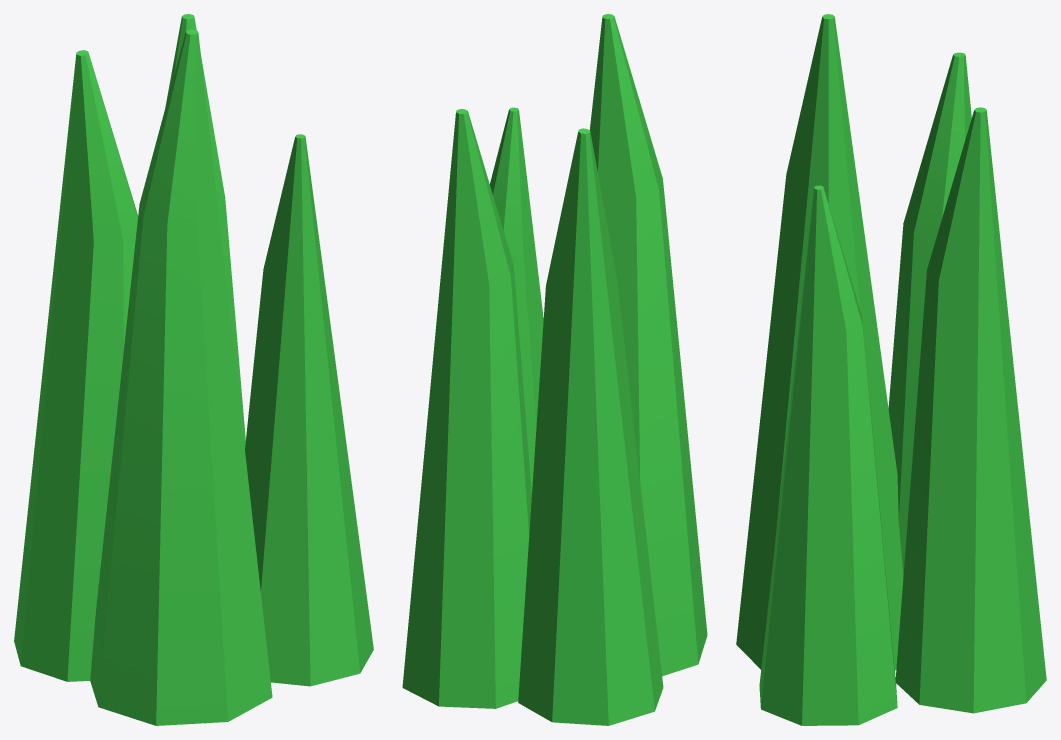
File: Grass.fbx
The picture shows the model from 3 angles, left to right: view 1: azimuth 30°, elevation 25°; view 2: azimuth 150°, elevation 25°; view 3: azimuth 270°, elevation 25°; orthographic projection. The views are drawn at different scales.
Visible parts, largest first — view 1: Grass; view 2: Grass; view 3: Grass.
Boxes of the visible parts, bbox=[...] form: Grass: bbox=[14, 14, 373, 725]; Grass: bbox=[402, 14, 707, 725]; Grass: bbox=[736, 14, 1046, 725].
Bounding box in the file's own units: 88.86 × 199 × 88.51.
